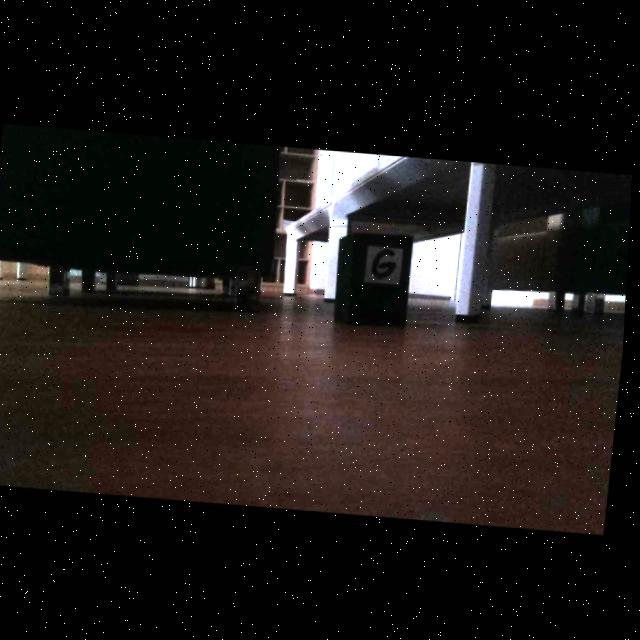G: (375, 248, 398, 276)
